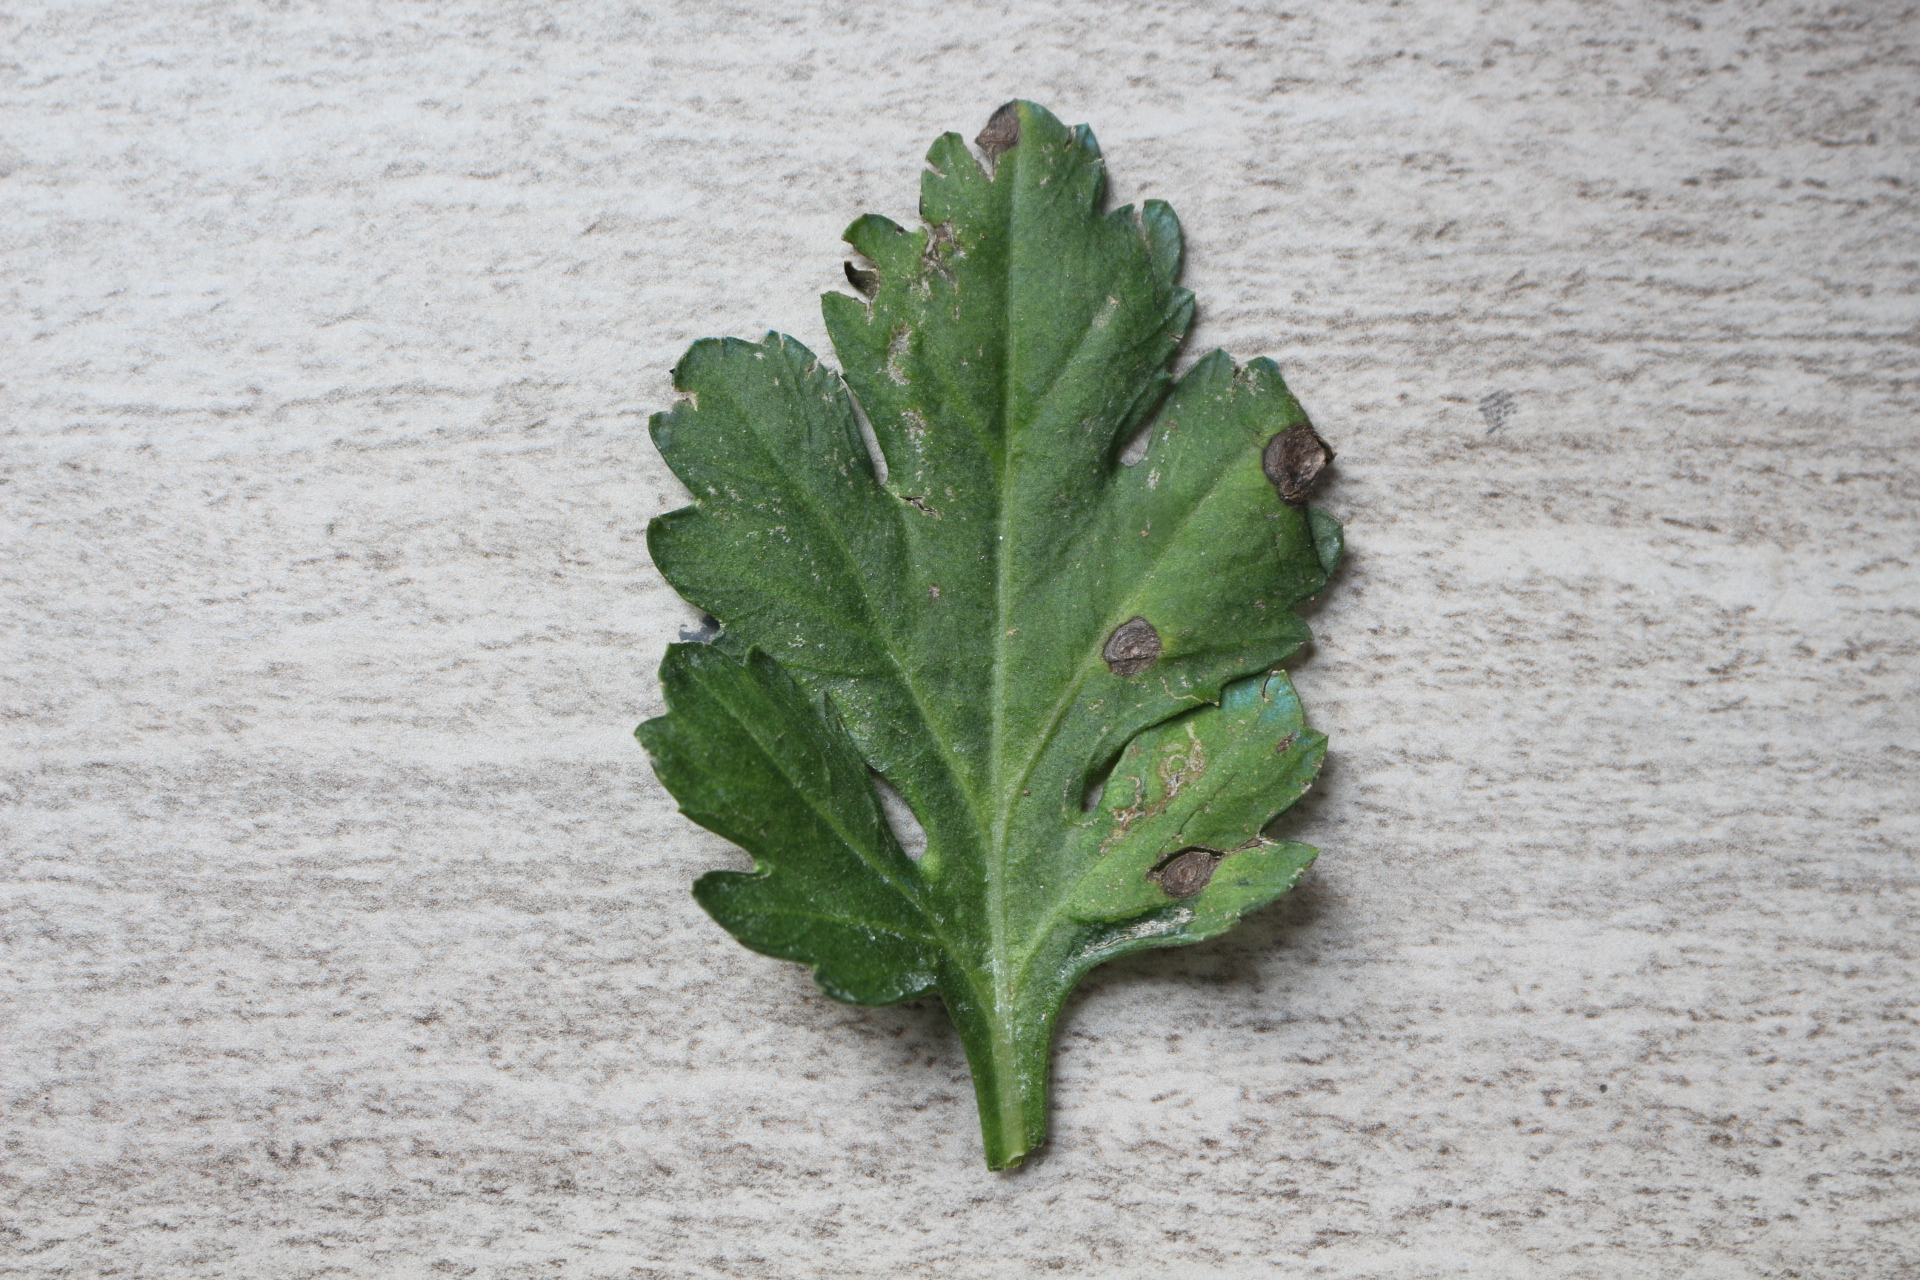namden: (1263, 423, 1334, 504), (1097, 611, 1169, 686), (1146, 846, 1214, 899)
